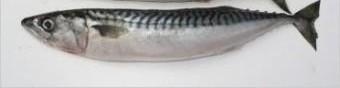fish: (21, 0, 319, 60)
